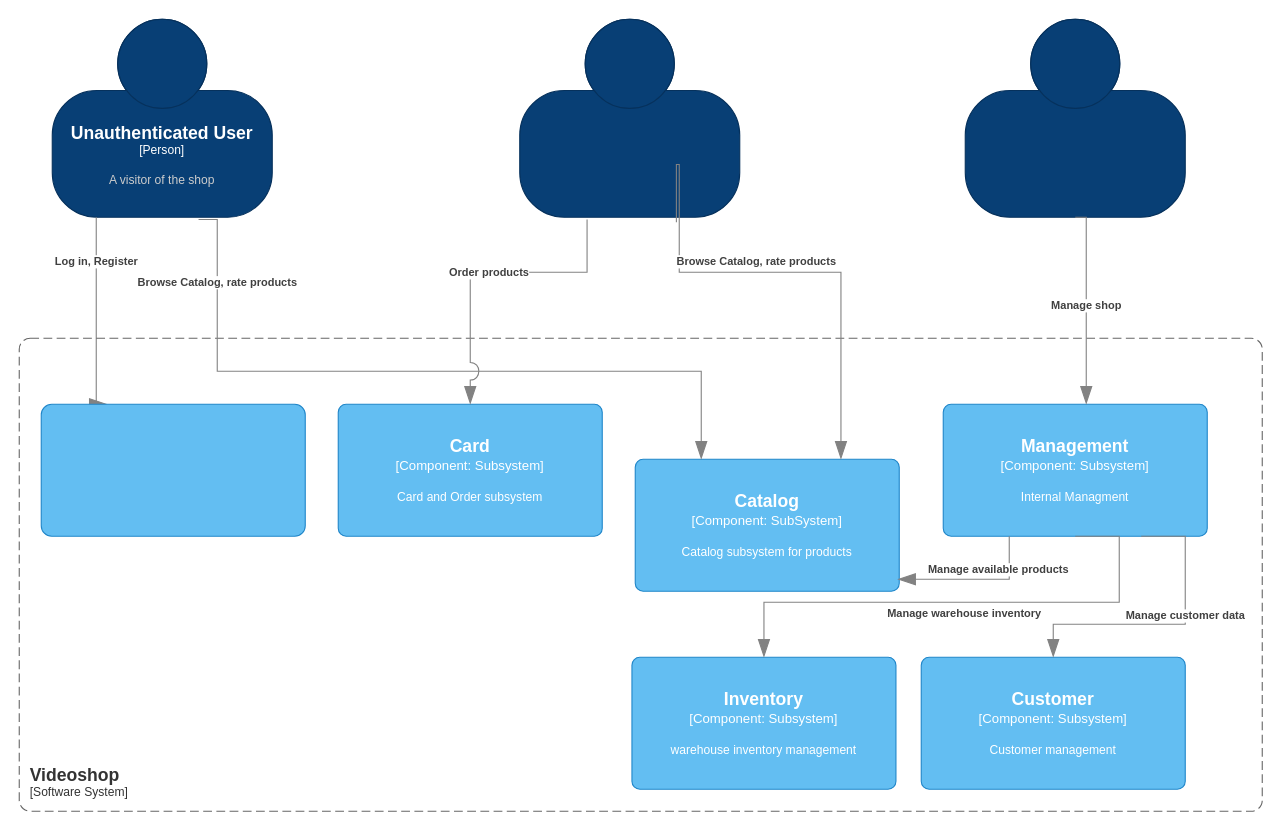
Some shapes in this 1282 by 831 pixel diagram are drawn without their labels. Each missing label, with the centre of its shape:
"Boss [Person] Administrator of the application" belongs at point 1074,117.
"Customer [Person] User, who is logged in an account" belongs at point 629,117.
"Shop [Component: Subsystem] Log in and sign up subsystem" belongs at point 172,469.
